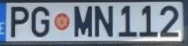character: (72, 4, 93, 39), (93, 4, 114, 38), (159, 4, 180, 38), (137, 4, 158, 37), (9, 5, 29, 39), (30, 5, 50, 39), (118, 4, 137, 37)
